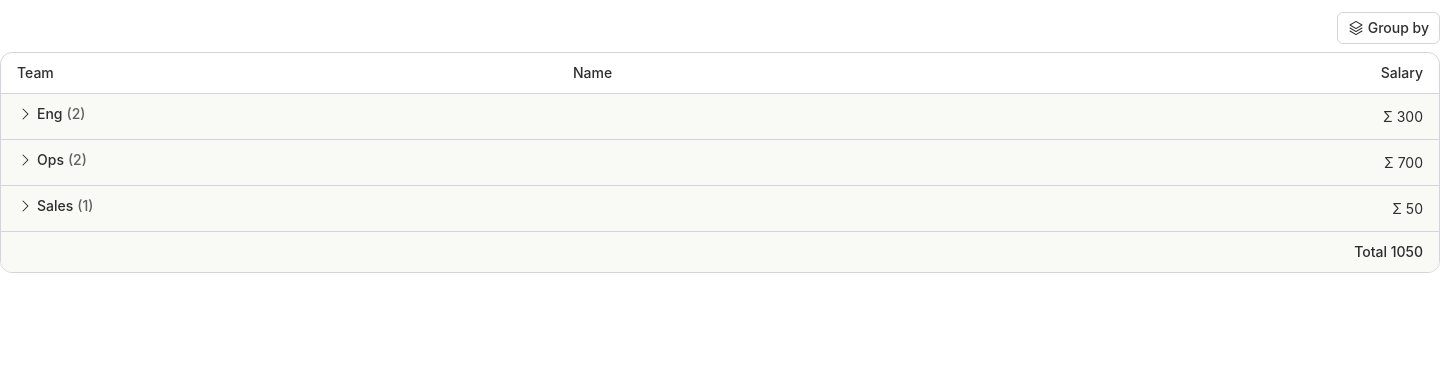
Scenario: DataTable features › groups rows, aggregates, and expands groups
Check: the text "Σ 300" is shown, box [922, 94, 1439, 140]
Check: the text "Σ 700" is shown, box [922, 140, 1439, 186]
Click the button "Eng (2)" at coordinates (51, 114), box [17, 106, 86, 122]
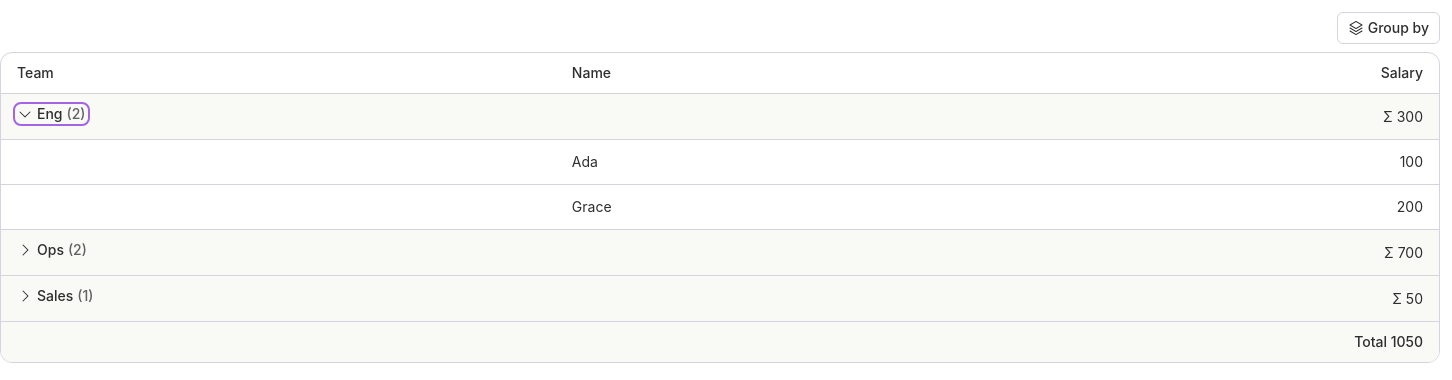
Check: the text "Ada" is shown, box [556, 140, 923, 184]
